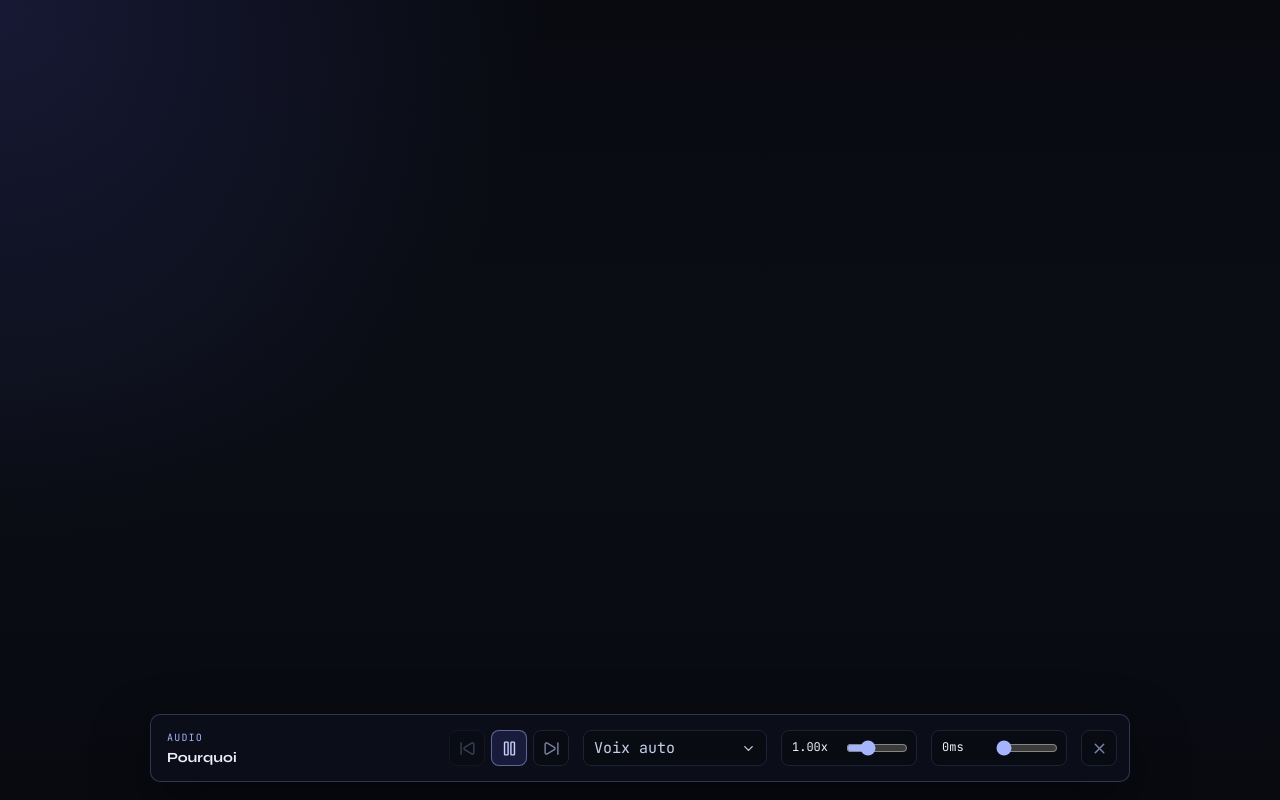
Test: AudioPlayerBar › selects a named voice and closes the menu
Click the button "Voix auto" at [675, 748], box [583,730,767,766]
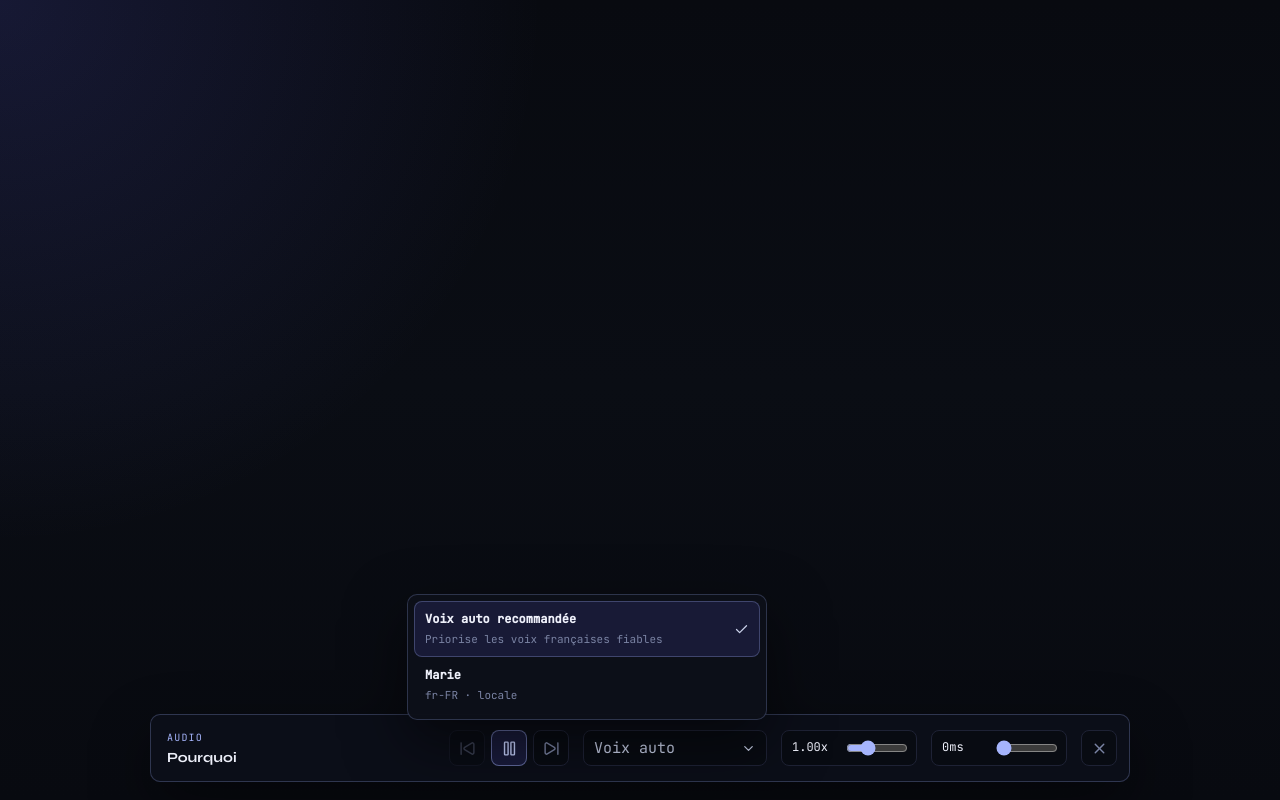
Click the menu item "Marie fr-FR · locale" at [443, 675], box [414,657,760,713]
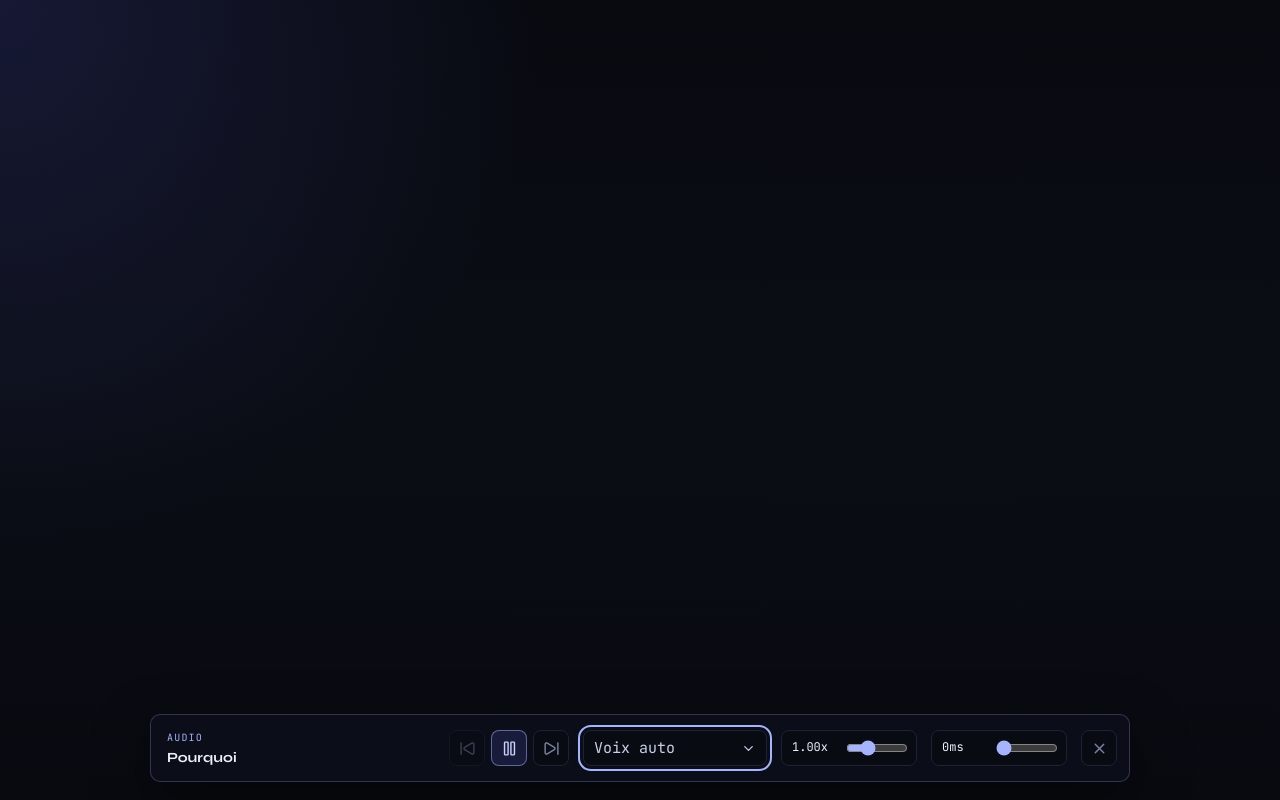
Result: the menu is gone
